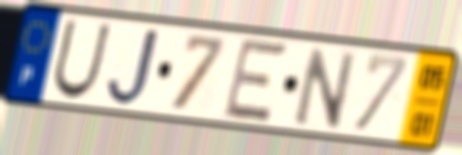7: (168, 32, 229, 115), (353, 50, 412, 135)
E: (220, 36, 292, 125)
J: (103, 25, 163, 108)
N: (291, 43, 359, 131)
U: (49, 17, 114, 102)
